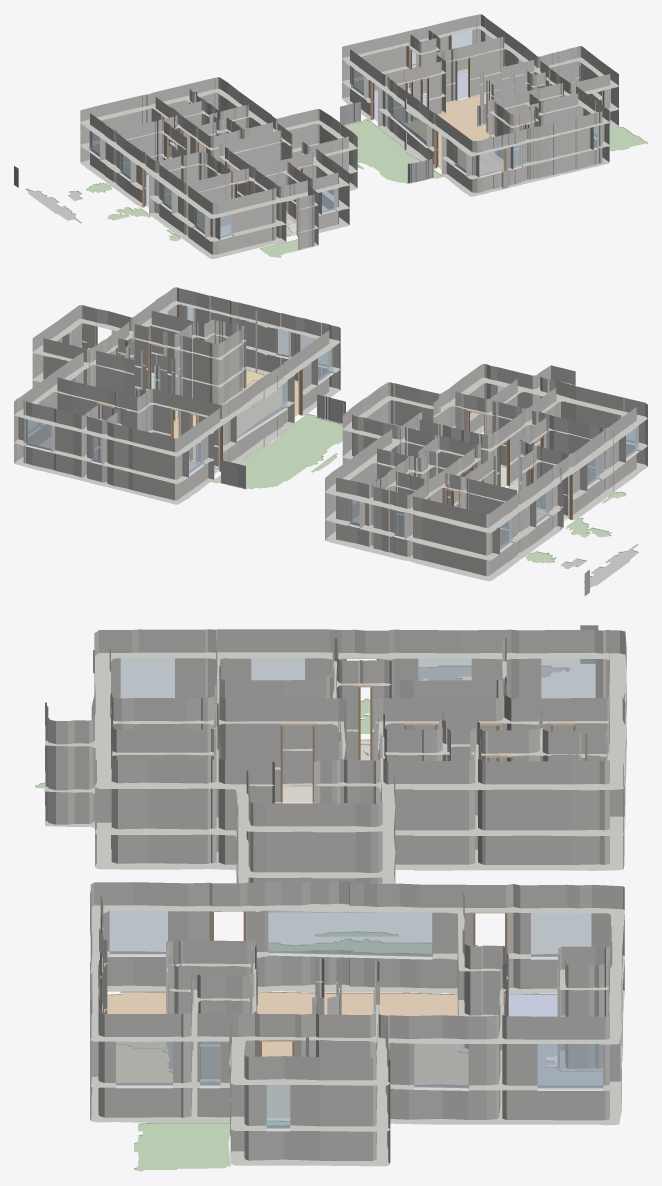
3 views of the same model, one above another, from view 1: azimuth 30°, elevation 25°; view 2: azimuth 150°, elevation 25°; view 3: azimuth 270°, elevation 25° (orthographic). The views are drawn at different scales.
Parts seen in each view (by area): view 1: walls, floor_5_Outdoor, floor_10_Living_Room, railings, window_36, floor_1_Outdoor, window_45, floor_32_Garage, floor_14_Bed_Room, floor_0_Outdoor; view 2: walls, floor_5_Outdoor, railings, floor_10_Living_Room, window_36, window_29, floor_32_Garage; view 3: walls, floor_10_Living_Room, window_36, floor_1_Outdoor, window_31, floor_14_Bed_Room, window_41, window_42, window_35, window_33, window_40, window_32 (+7 smaller).
Boxes of the visible parts, bbox=[...] form: walls: bbox=[80, 14, 618, 258]; floor_5_Outdoor: bbox=[344, 119, 442, 183]; floor_10_Living_Room: bbox=[404, 93, 503, 174]; railings: bbox=[14, 102, 486, 187]; window_36: bbox=[390, 96, 426, 146]; floor_1_Outdoor: bbox=[596, 127, 647, 151]; window_45: bbox=[479, 149, 503, 176]; floor_32_Garage: bbox=[25, 188, 81, 223]; floor_14_Bed_Room: bbox=[374, 72, 467, 121]; floor_0_Outdoor: bbox=[259, 238, 297, 257]; walls: bbox=[14, 287, 647, 581]; floor_5_Outdoor: bbox=[212, 414, 342, 489]; railings: bbox=[135, 388, 589, 595]; floor_10_Living_Room: bbox=[173, 380, 298, 460]; window_36: bbox=[236, 381, 287, 439]; window_29: bbox=[25, 418, 51, 450]; floor_32_Garage: bbox=[584, 544, 638, 588]; walls: bbox=[45, 629, 626, 1166]; floor_10_Living_Room: bbox=[107, 991, 468, 1084]; window_36: bbox=[268, 907, 432, 956]; floor_1_Outdoor: bbox=[134, 1122, 230, 1171]; window_31: bbox=[537, 1044, 603, 1088]; floor_14_Bed_Room: bbox=[508, 993, 602, 1085]; window_41: bbox=[116, 1039, 172, 1085]; window_42: bbox=[109, 911, 167, 954]; window_35: bbox=[414, 1041, 468, 1088]; window_33: bbox=[531, 913, 591, 956]; window_40: bbox=[120, 655, 174, 698]; window_32: bbox=[541, 658, 595, 698].
Size of the model in its own units: 28.34 by 2.72 by 13.97.
